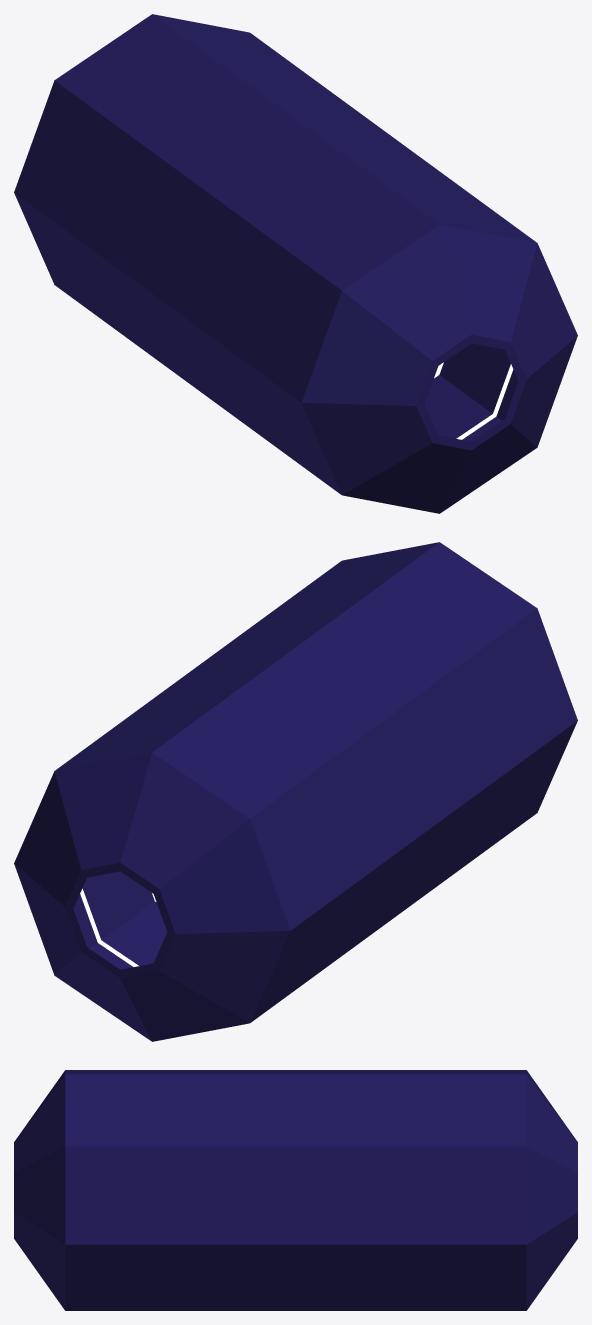
File: expandedsectiononepiece.glb
3 renders of one model, top to bottom at view 1: azimuth 30°, elevation 25°; view 2: azimuth 150°, elevation 25°; view 3: azimuth 270°, elevation 25°, orthographic. The views are drawn at different scales.
Visible parts, largest first — view 1: Cylinder.001; view 2: Cylinder.001; view 3: Cylinder.001.
Part boxes in pixels (x1,y1,x2,y2): Cylinder.001: (14,14,577,513); Cylinder.001: (14,542,577,1041); Cylinder.001: (14,1070,577,1310).
Size of the model in its own units: 100 by 100 by 220.
